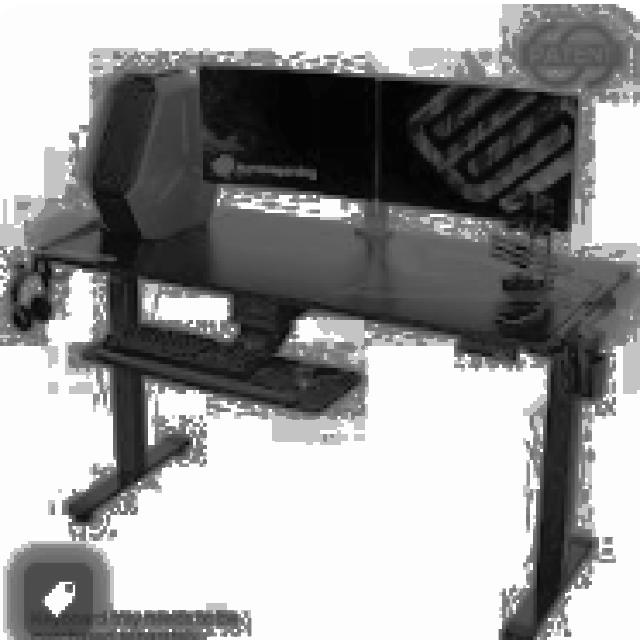table: (10, 192, 630, 636)
